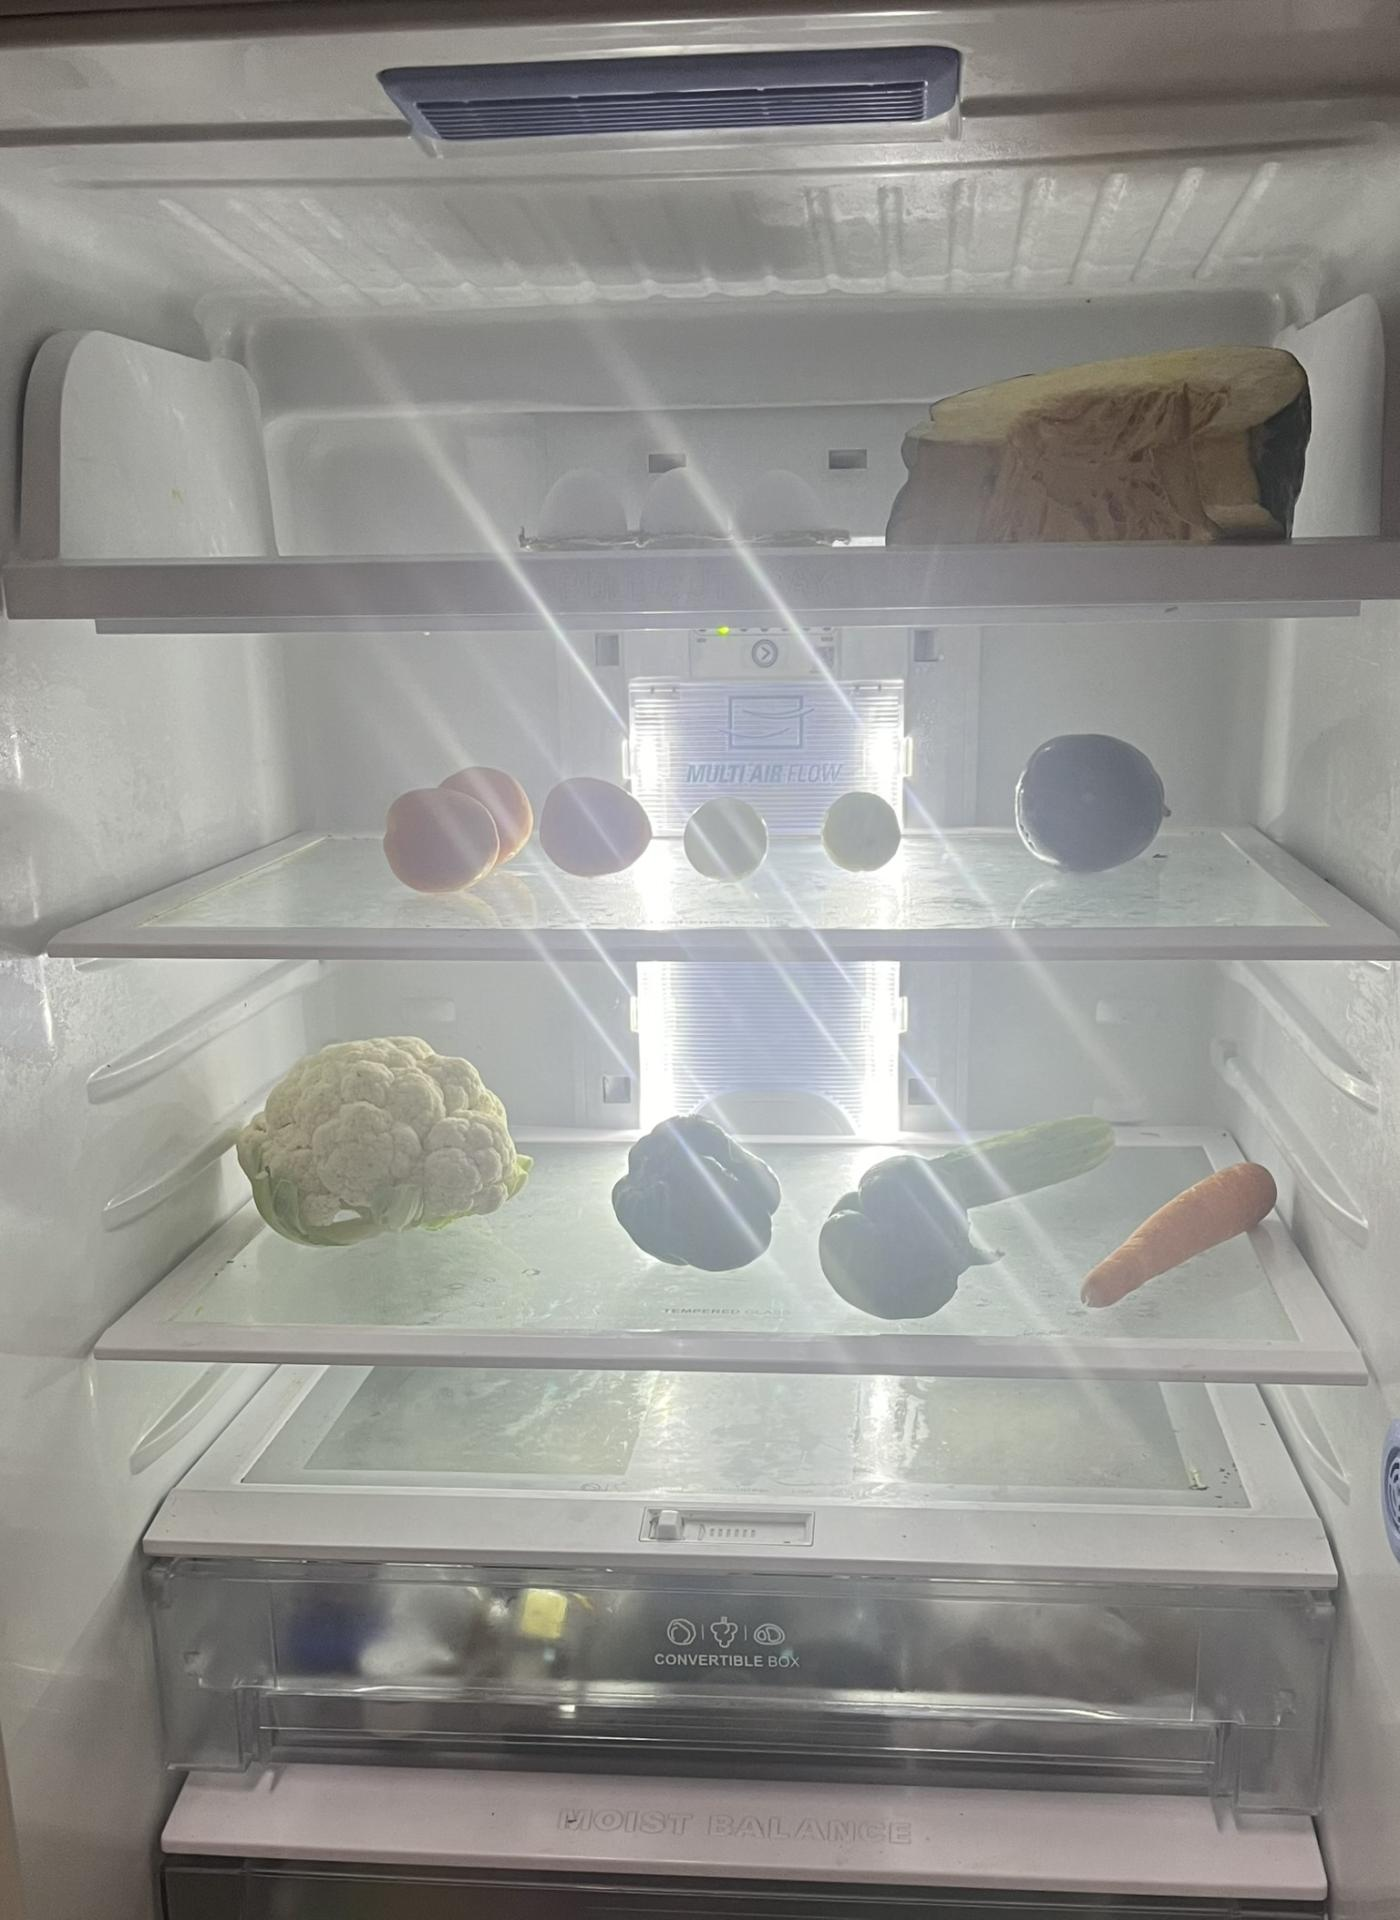brinjal: (1009, 730, 1172, 875)
capsicum: (605, 1114, 789, 1279), (813, 1163, 980, 1319)
cauliflower: (231, 1030, 532, 1242)
cucumber: (1071, 1167, 1273, 1315), (927, 1109, 1126, 1196)
egg: (534, 468, 838, 531)
lemon: (680, 796, 787, 884), (820, 784, 905, 872)
pumpkin: (889, 338, 1302, 546)
tomato: (379, 757, 538, 887), (543, 769, 662, 881)
